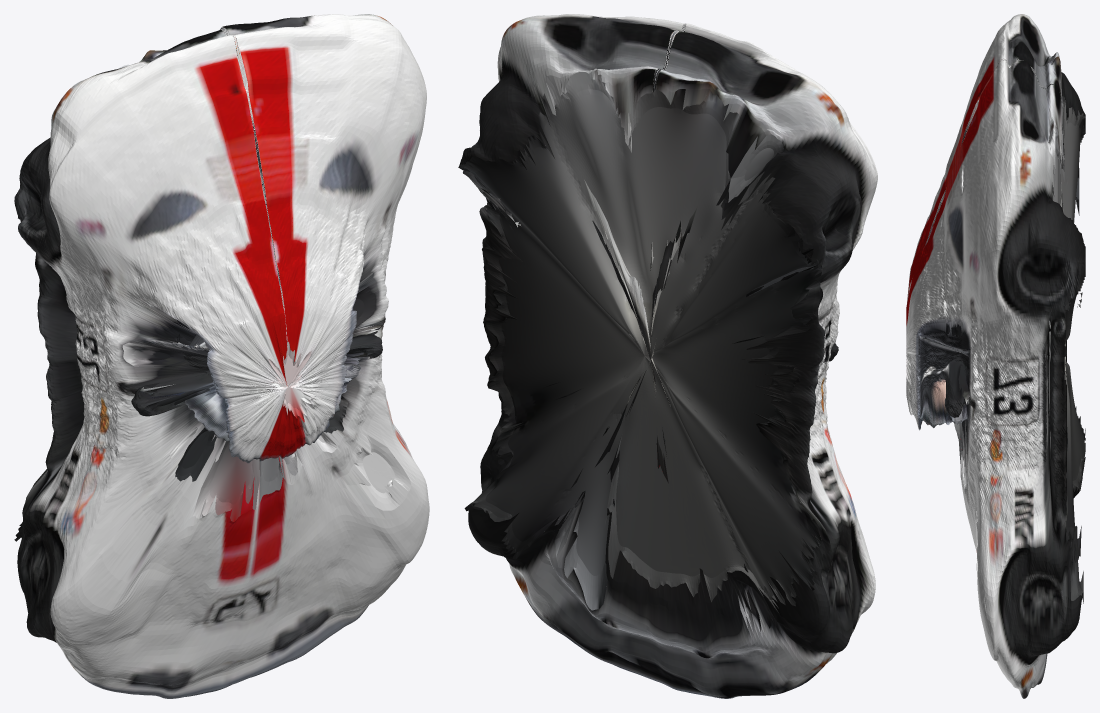
Rendered from mesh_filled.glb.
3 views of the same model, side by side, from view 1: azimuth 30°, elevation 25°; view 2: azimuth 150°, elevation 25°; view 3: azimuth 270°, elevation 25° (orthographic). The views are drawn at different scales.
Visible parts, largest first — view 1: ipn, fill; view 2: fill, ipn; view 3: ipn, fill.
Part boxes in pixels (left/top/right/bottom): ipn: left=14, top=14, right=429, bottom=698; fill: left=15, top=273, right=411, bottom=541; fill: left=459, top=69, right=824, bottom=634; ipn: left=458, top=14, right=877, bottom=698; ipn: left=906, top=14, right=1085, bottom=698; fill: left=944, top=83, right=1085, bottom=600.
Size of the model in its own units: 1.13 by 1.89 by 0.502.
2 materials, 1 textured.
